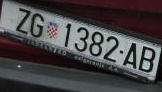1: (61, 21, 71, 47)
2: (104, 34, 119, 62)
3: (74, 24, 87, 53)
8: (89, 28, 103, 56)
A: (123, 41, 138, 69)
B: (138, 43, 154, 75)
G: (30, 10, 45, 38)
Z: (14, 6, 30, 36)
